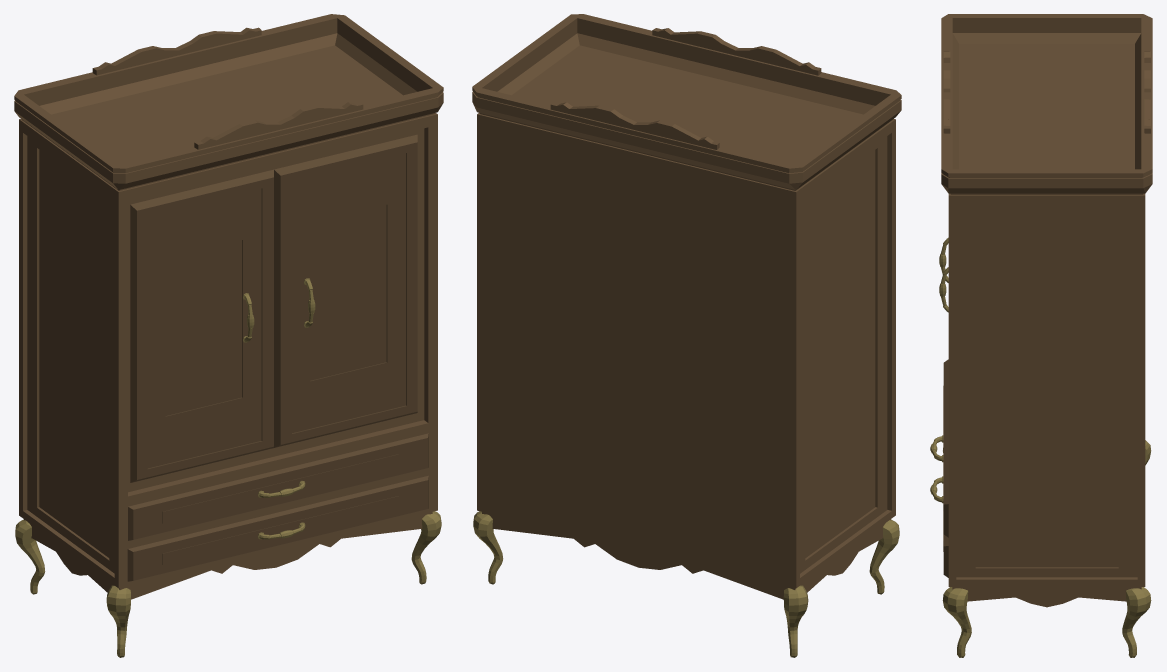
File: tomb.glb
3 renders of one model, left to right at view 1: azimuth 30°, elevation 25°; view 2: azimuth 150°, elevation 25°; view 3: azimuth 270°, elevation 25°, orthographic.
Parts seen in each view (by area): view 1: ShortCloset_Cube, ShortCloset_RightDoor_Cube.005, ShortCloset_LeftDoor_Cube.008, ShortCloset_TopDrawer_Cube.003, ShortCloset_BottomDrawer_Cube.004; view 2: ShortCloset_Cube; view 3: ShortCloset_Cube, ShortCloset_TopDrawer_Cube.003, ShortCloset_BottomDrawer_Cube.004.
Boxes of the visible parts, <box> form: ShortCloset_Cube: <box>14,14,443,657</box>; ShortCloset_RightDoor_Cube.005: <box>274,134,417,447</box>; ShortCloset_LeftDoor_Cube.008: <box>130,169,273,482</box>; ShortCloset_TopDrawer_Cube.003: <box>128,433,428,540</box>; ShortCloset_BottomDrawer_Cube.004: <box>127,475,428,581</box>; ShortCloset_Cube: <box>472,14,901,657</box>; ShortCloset_Cube: <box>941,14,1152,657</box>; ShortCloset_TopDrawer_Cube.003: <box>930,359,948,537</box>; ShortCloset_BottomDrawer_Cube.004: <box>930,476,948,577</box>.
Bounding box in the file's own units: 1.55 × 2.27 × 0.9068.
